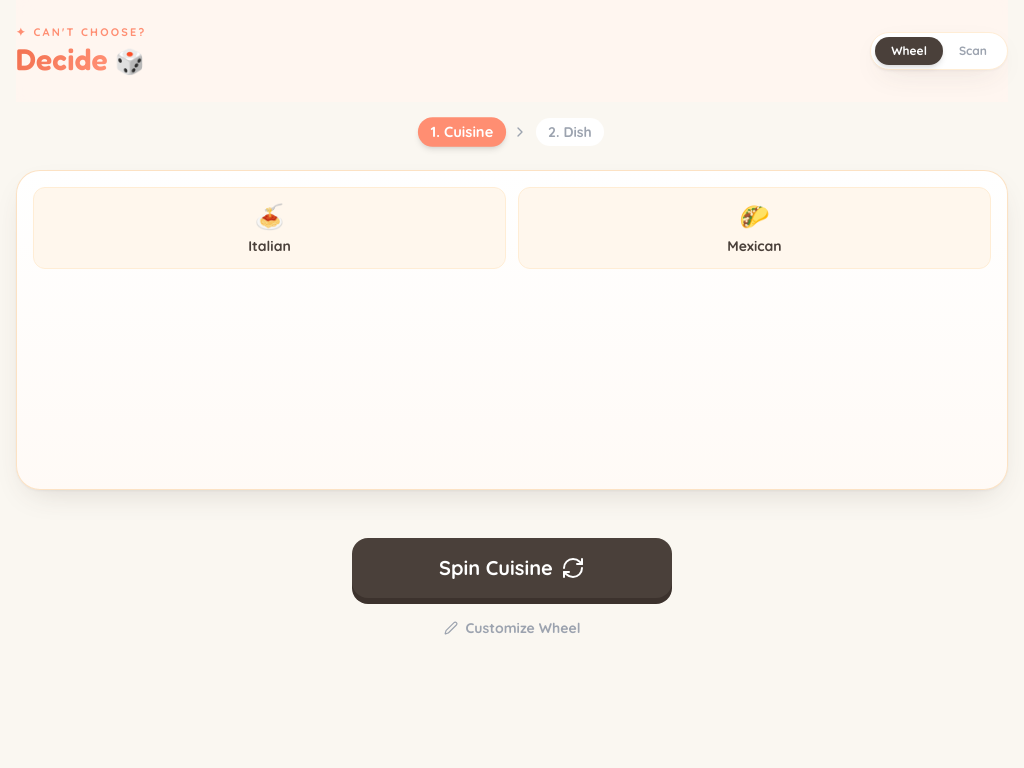
Test: DeciderWheel Component › supports adding cuisine in edit modal
Check: the text "Italian" is shown, box x1=248 y1=237 x2=291 y2=255
Click the button "Customize Wheel": (512, 628) x1=352 y1=610 x2=672 y2=646
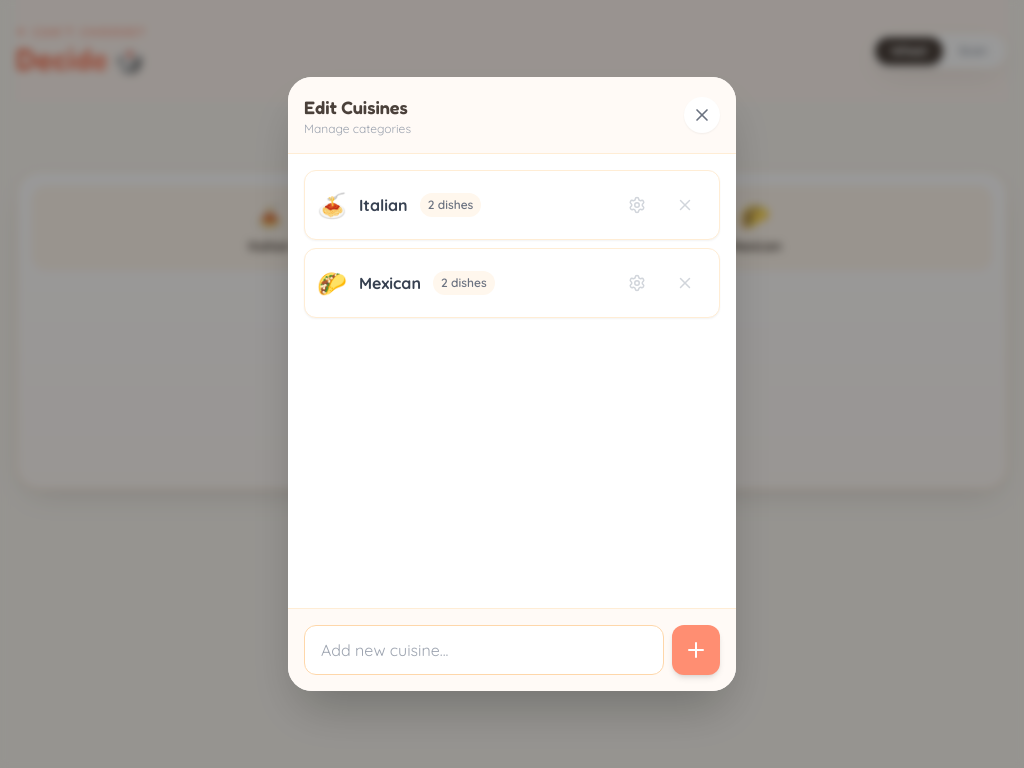
In the field with placeholder "Add new cuisine...": (484, 650) x1=304 y1=625 x2=664 y2=675, type "Korean"
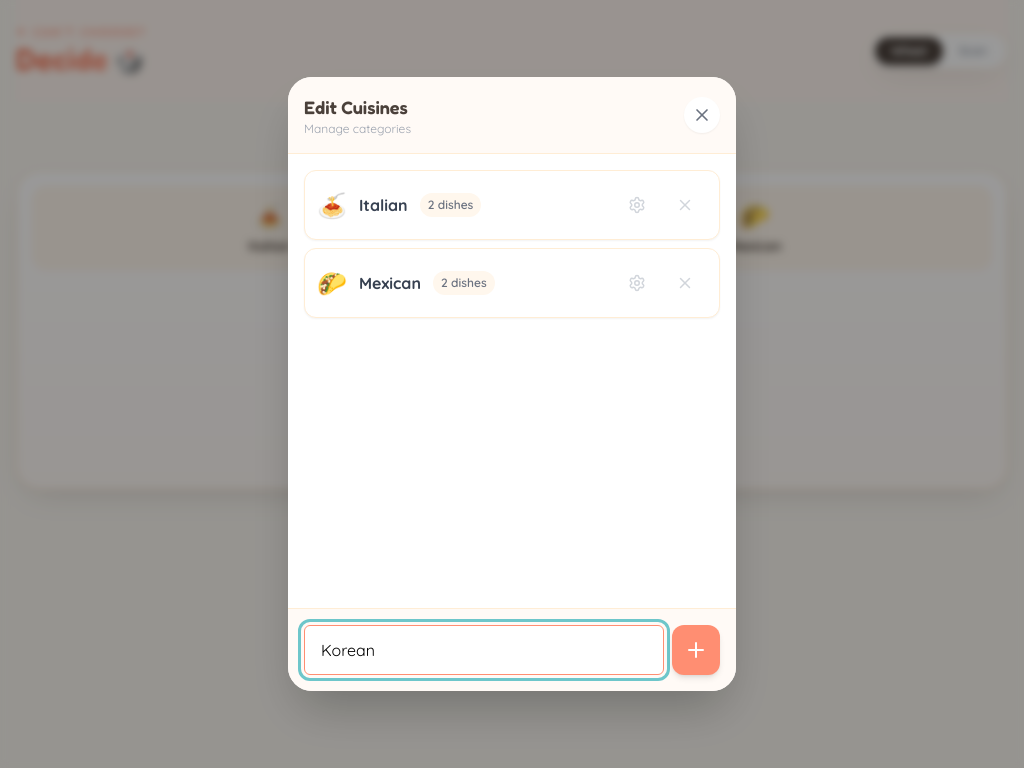
Submit the form with placeholder "Add new cuisine...", box x1=288 y1=608 x2=736 y2=691
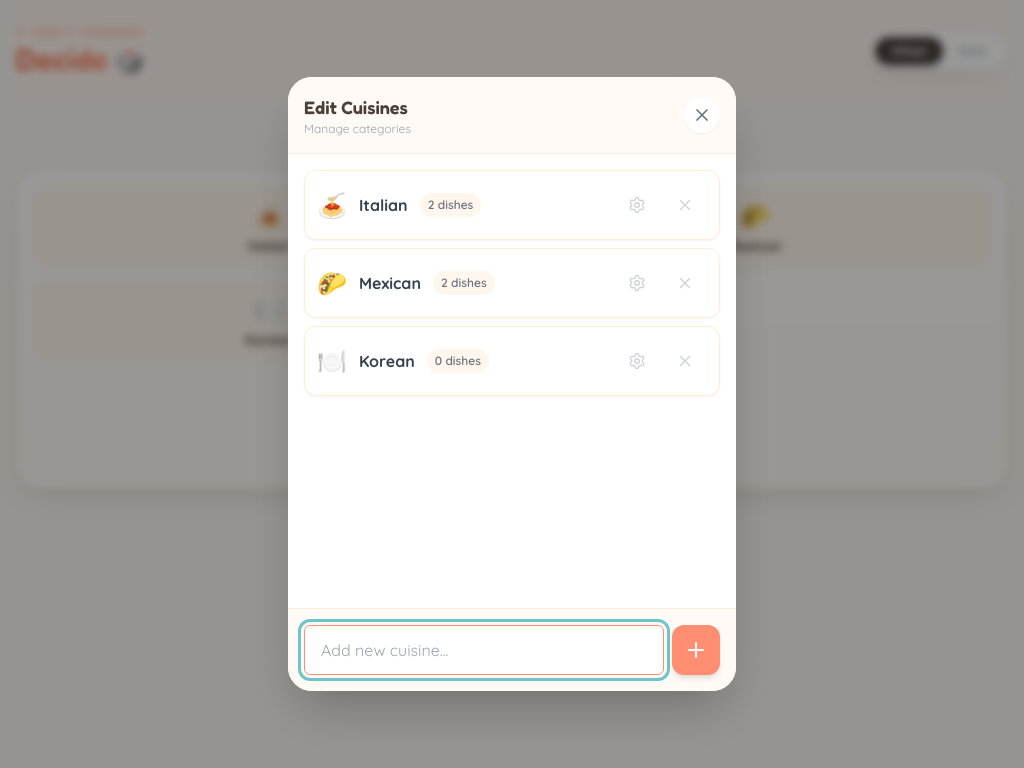
Check: the text "Korean" below "1. Cuisine" is shown, box x1=245 y1=331 x2=294 y2=349
